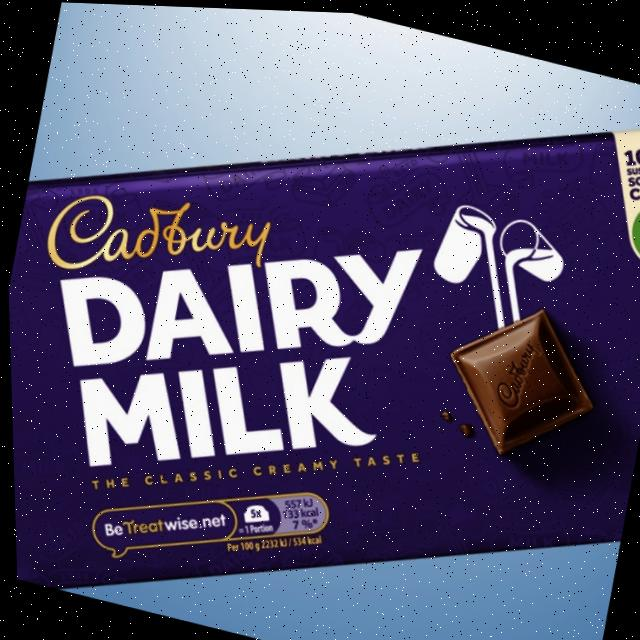cadbury: (0, 0, 640, 640), (398, 265, 625, 496)
